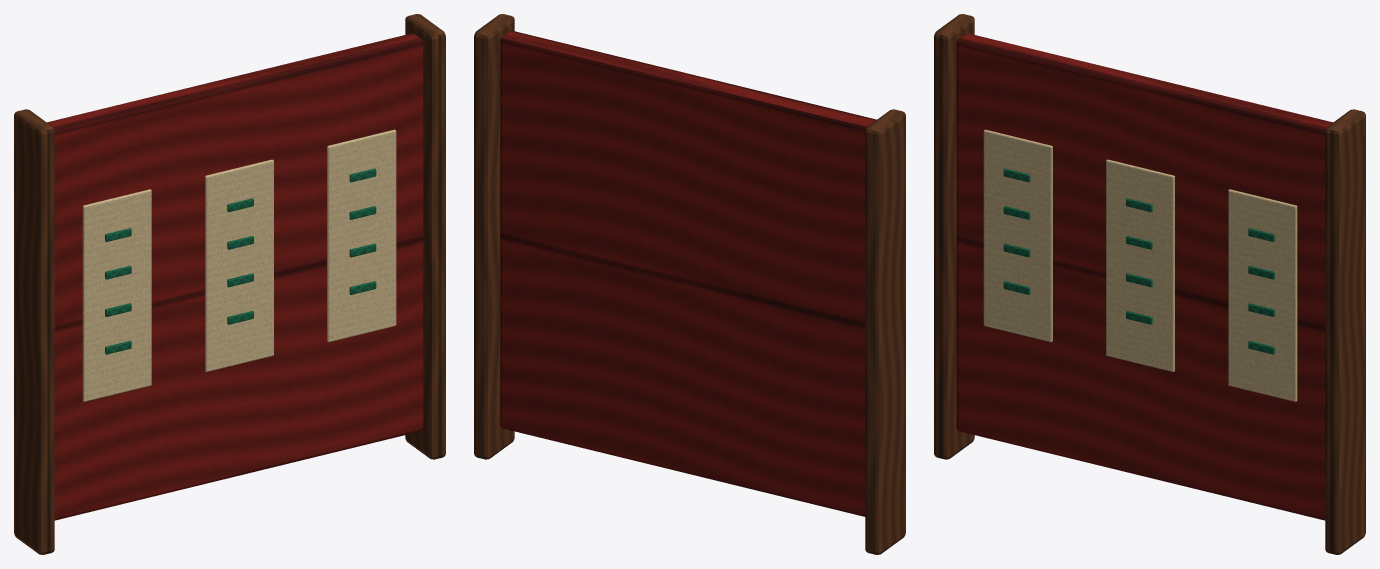
Rendered from talisman_board.glb.
3 renders of one model, left to right at view 1: azimuth 30°, elevation 25°; view 2: azimuth 150°, elevation 25°; view 3: azimuth 330°, elevation 25°, orthographic.
Visible parts, largest first — view 1: talisman_board_Lacquer, talisman_board_Paper, talisman_board_Walnut, talisman_board_Jade; view 2: talisman_board_Lacquer, talisman_board_Walnut; view 3: talisman_board_Lacquer, talisman_board_Paper, talisman_board_Walnut, talisman_board_Jade.
Boxes of the visible parts, <box> form: talisman_board_Lacquer: <box>47,33,423,520</box>; talisman_board_Paper: <box>82,129,396,401</box>; talisman_board_Walnut: <box>14,14,445,554</box>; talisman_board_Jade: <box>105,168,376,354</box>; talisman_board_Lacquer: <box>500,30,876,516</box>; talisman_board_Walnut: <box>474,14,905,554</box>; talisman_board_Lacquer: <box>956,33,1332,520</box>; talisman_board_Paper: <box>983,129,1297,401</box>; talisman_board_Walnut: <box>934,14,1365,554</box>; talisman_board_Jade: <box>1003,168,1274,354</box>.
Size of the model in its own units: 2.5 by 2.5 by 0.3.
4 materials, 4 textured.
